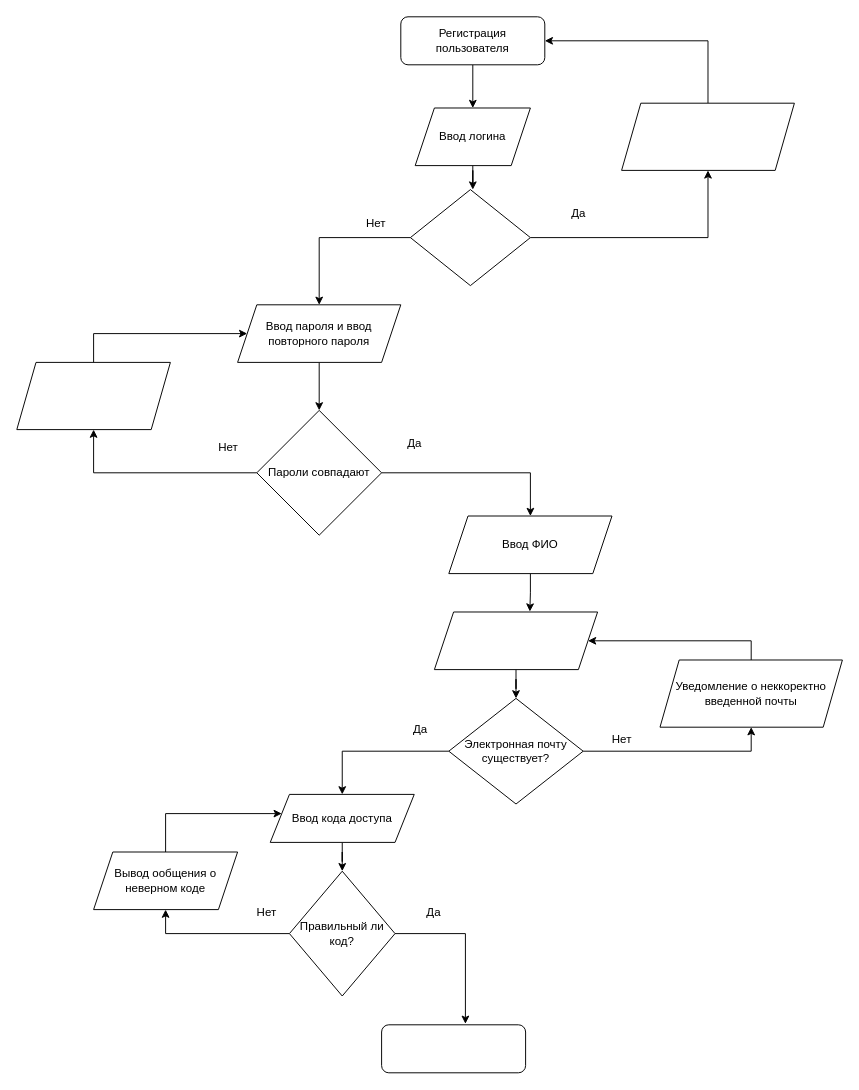
Image size: 859x1090. Some labels were removed from this diagram. The box of each missing label's shape, as (x1, y1, x2, y2) in pixels:
Ввод электронной почты: (433, 611, 598, 670)
Вывод сообщения о несовпадении паролей: (16, 361, 170, 430)
Вывод сообщения о существовании логинв: (621, 102, 794, 170)
Конец: (381, 1024, 526, 1073)
Такой логин существует?: (409, 189, 530, 286)
